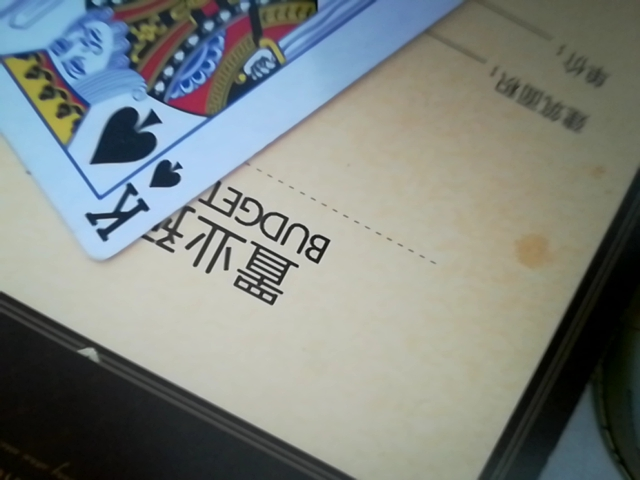ht k: (1, 0, 515, 275)
